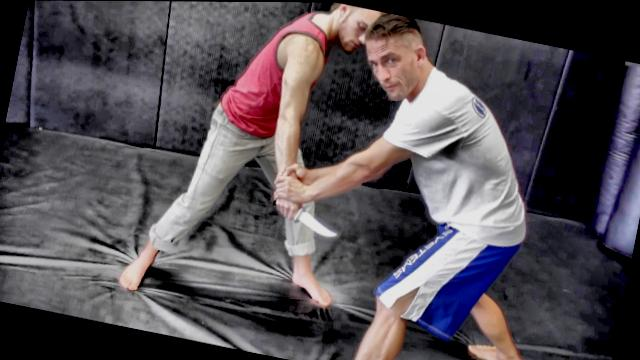knife: (264, 196, 344, 243)
